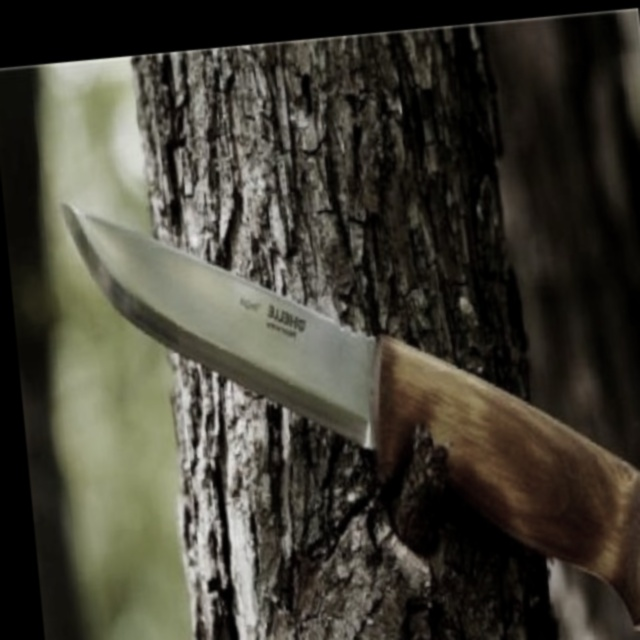Sharp-Object: (61, 145, 640, 640)
